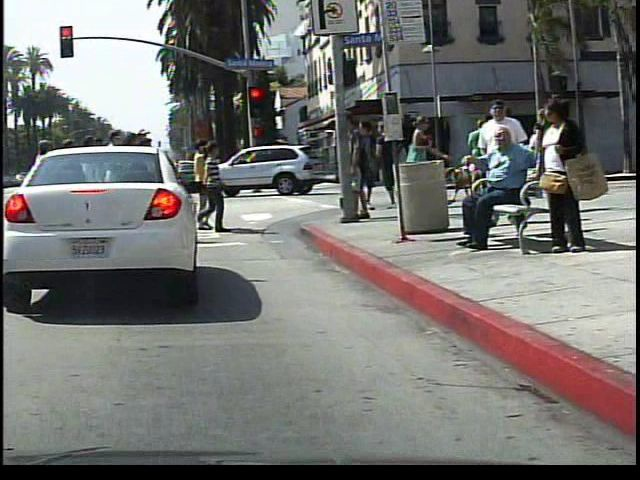person: (446, 127, 540, 258), (525, 96, 589, 267), (394, 109, 441, 212), (273, 145, 298, 196)
